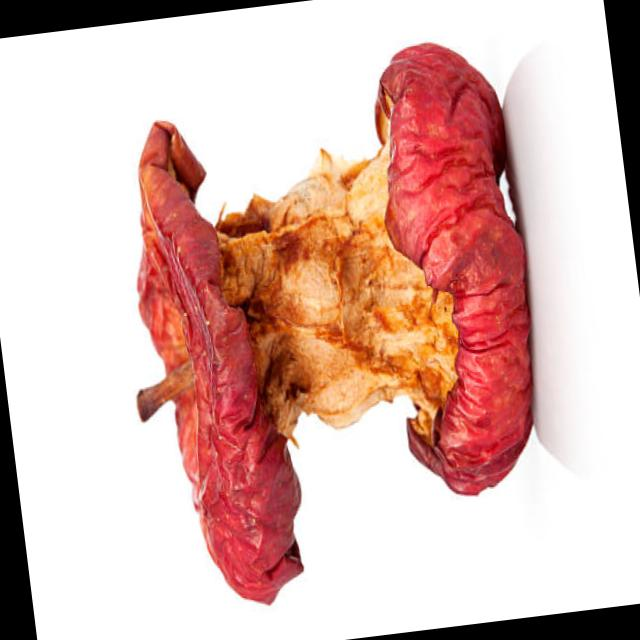apple_fruit: (102, 19, 556, 619)
